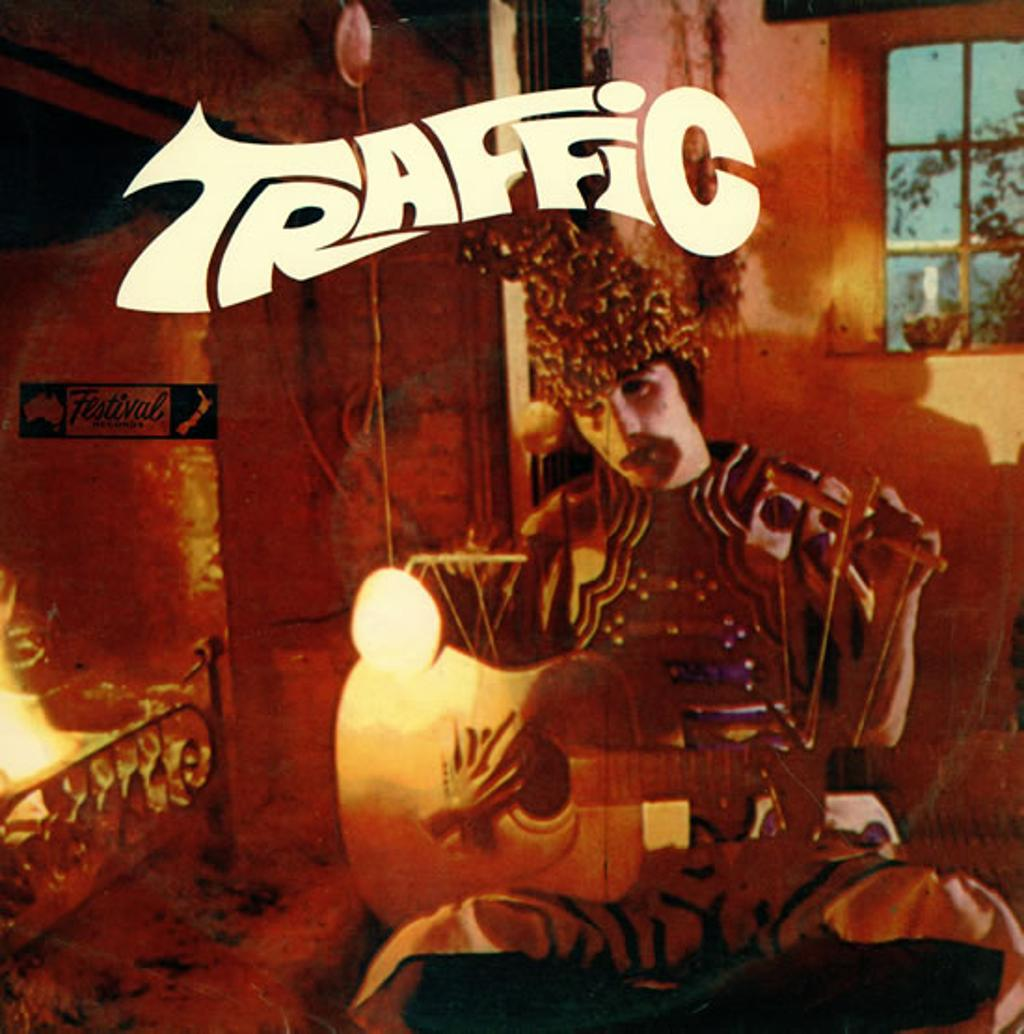face: (571, 350, 678, 489)
